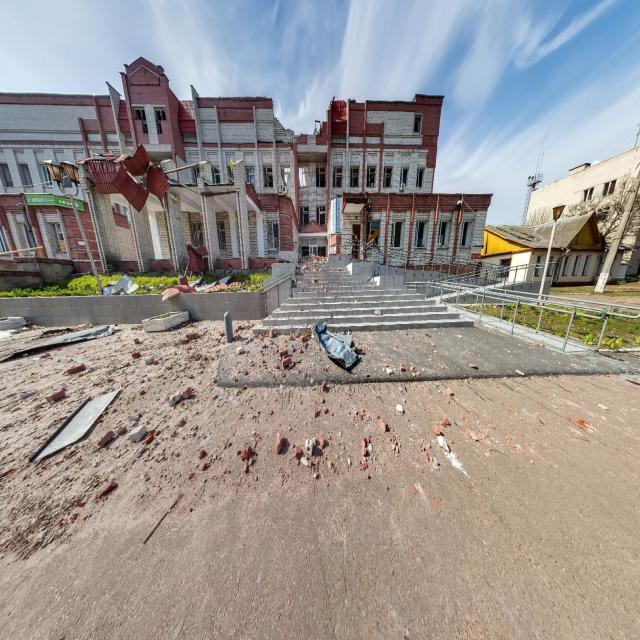building: (0, 55, 492, 286)
